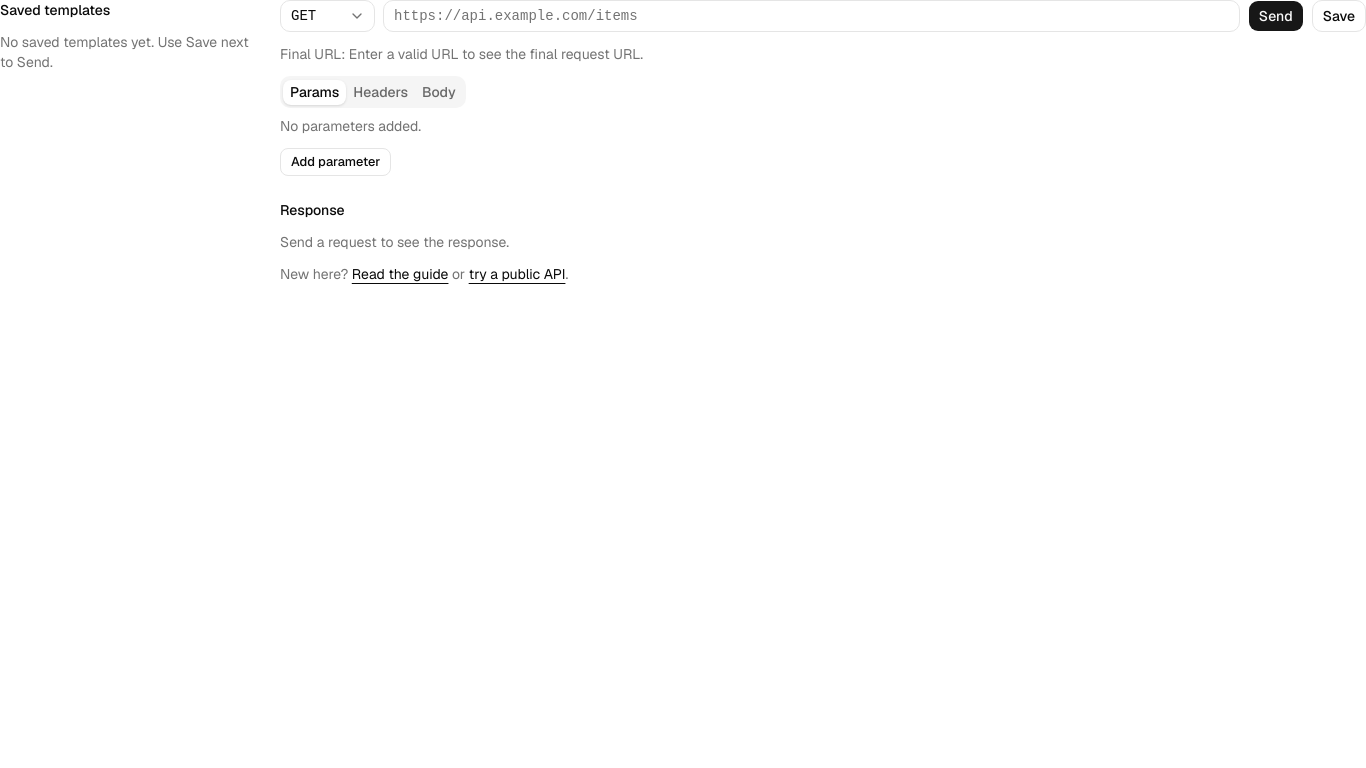
Saving templates (FR-03) › saves a plain template without sending the request
Check: the text "No saved templates yet. Use Save next to Send." is shown, box [0, 32, 256, 72]
Type "https://api.example.com/users" into the field named "URL" at (811, 16), box [383, 0, 1240, 32]
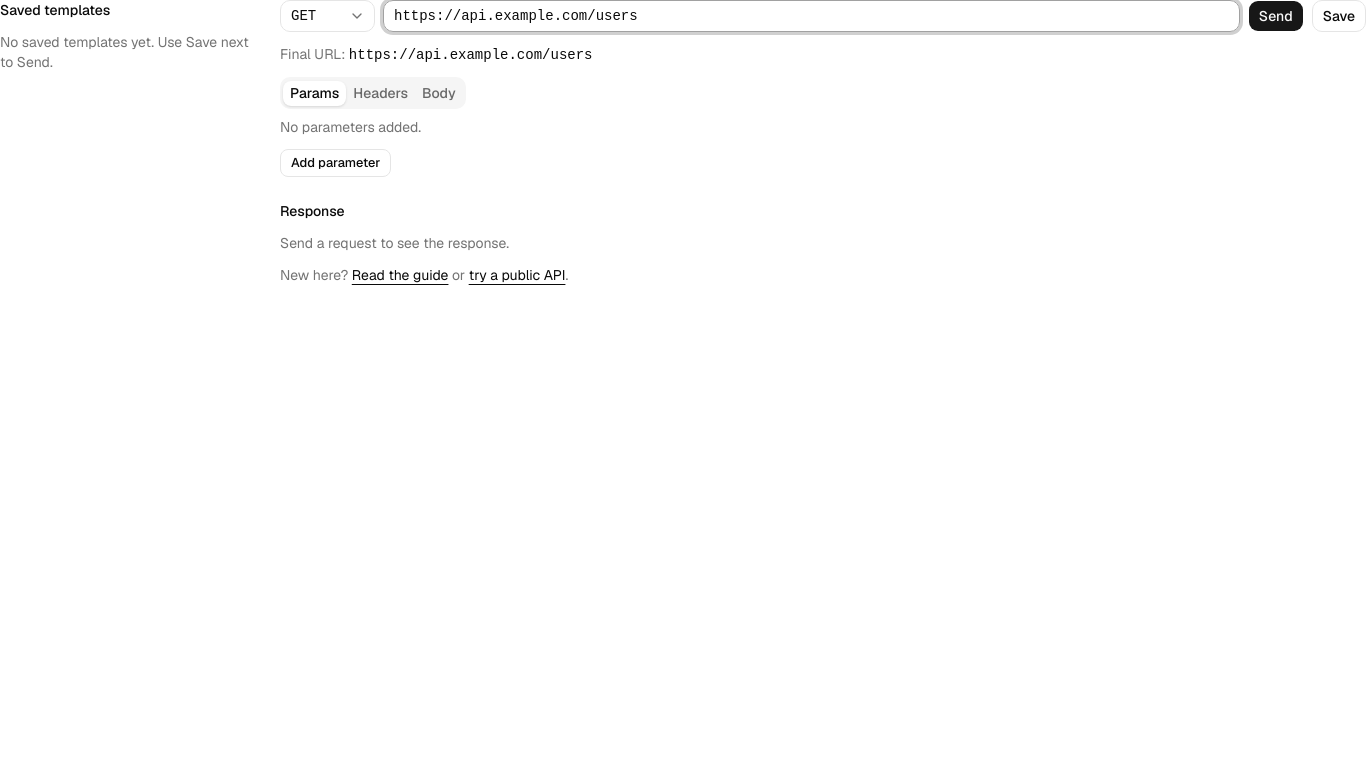
Click the button "Save" at (1339, 16), box [1312, 0, 1365, 32]
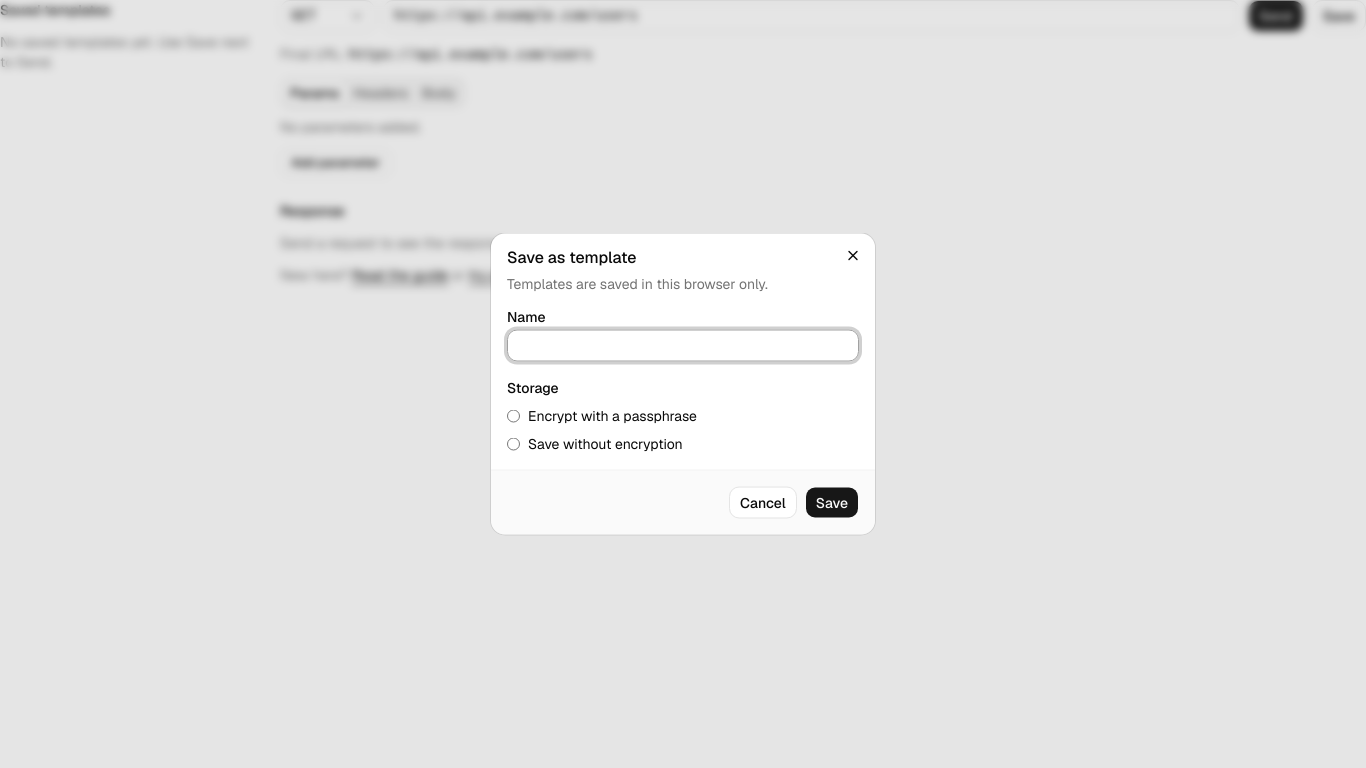
Type "Users" into the field labelled "Name" at (683, 346), box [507, 330, 859, 362]
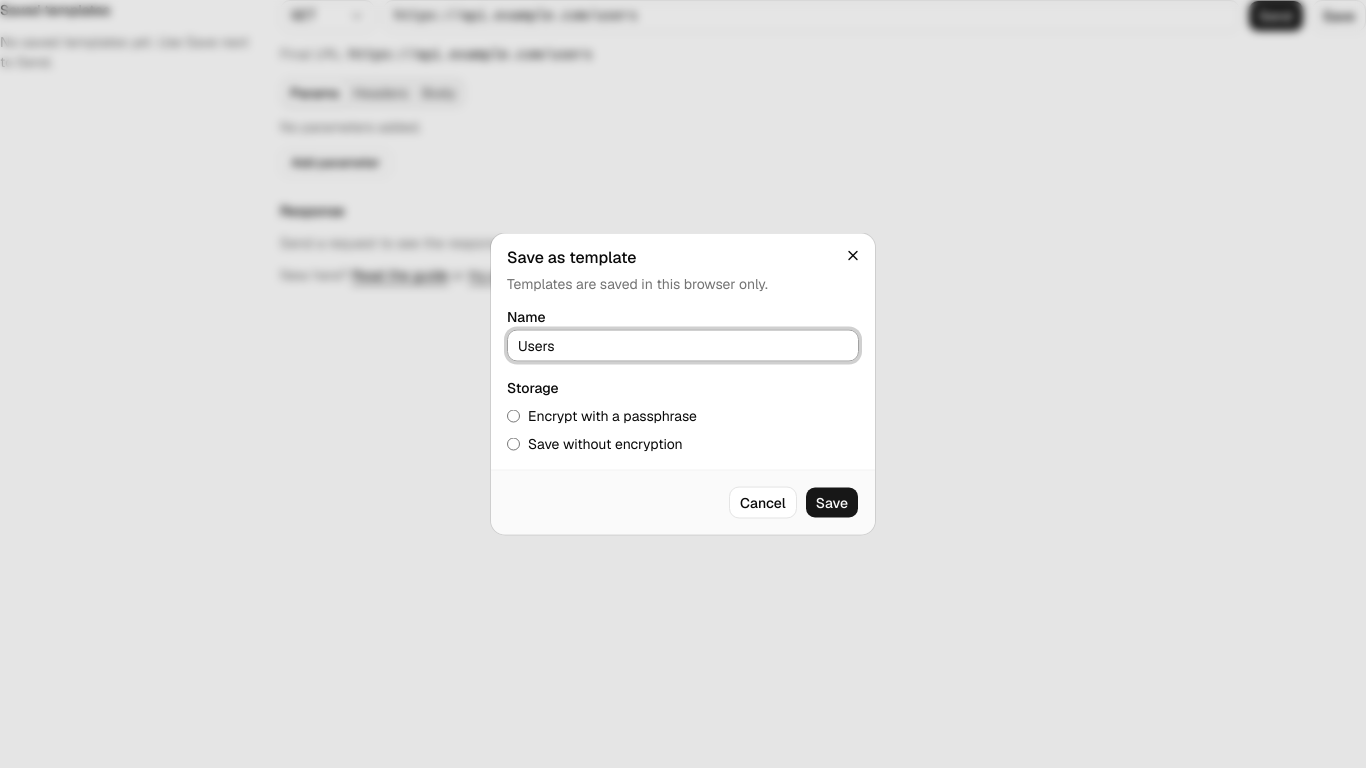
Click the radio button labelled "Save without encryption" at (514, 444), box [507, 437, 520, 450]
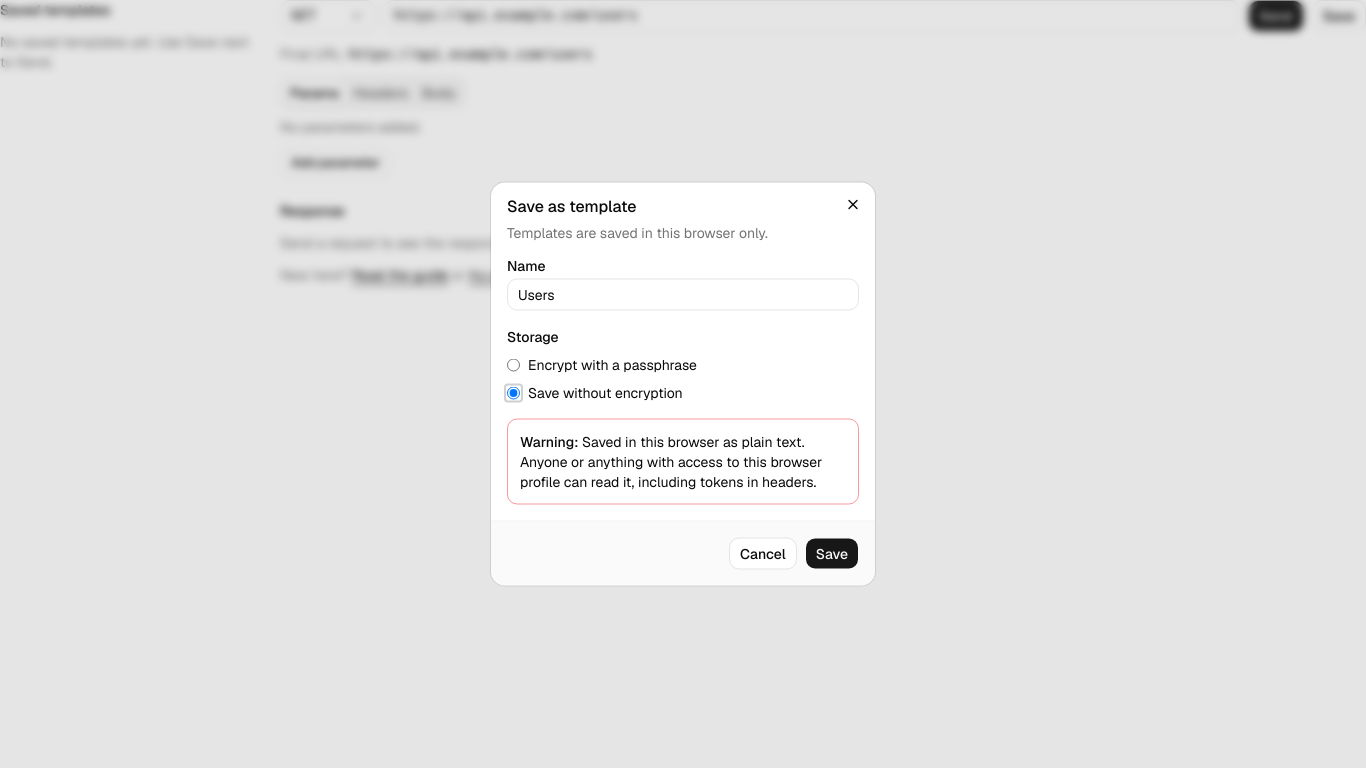
Click the button "Save" at (832, 554), box [805, 538, 859, 570]
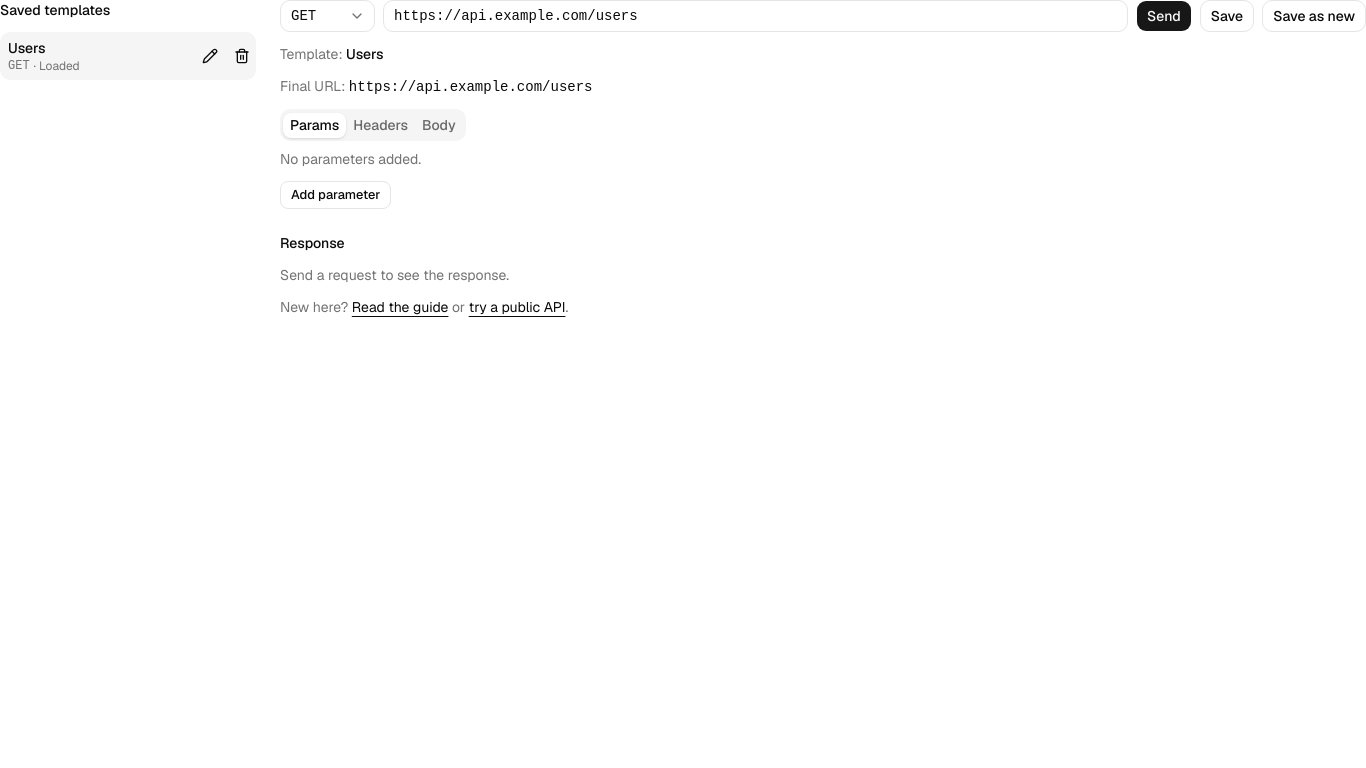
Check: the dialog is gone
Check: the element showing "Template: Users" is shown, box [280, 45, 384, 63]
